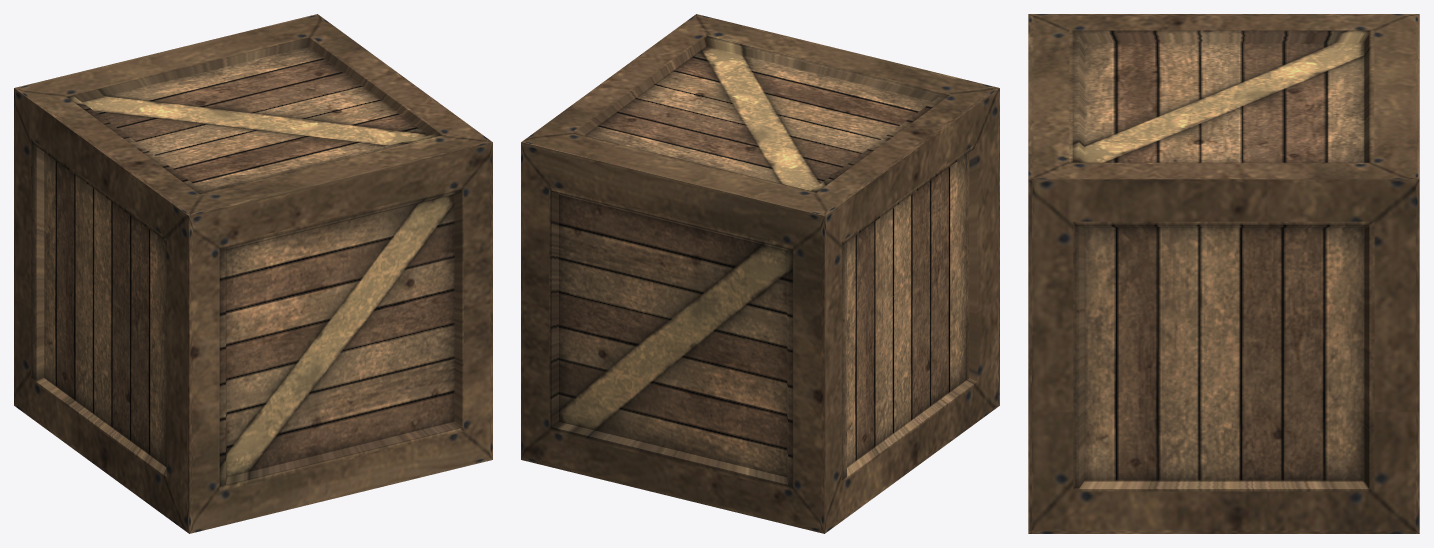
The picture shows the model from 3 angles, left to right: view 1: azimuth 30°, elevation 25°; view 2: azimuth 150°, elevation 25°; view 3: azimuth 270°, elevation 25°; orthographic projection. The views are drawn at different scales.
Visible parts, largest first — view 1: pCube1; view 2: pCube1; view 3: pCube1.
Part boxes in pixels (x1,y1,x2,y2): pCube1: (14,14,492,533); pCube1: (521,14,999,533); pCube1: (1028,14,1419,533).
Bounding box in the file's own units: 9.25 × 9.25 × 9.25.
Materials: 1 (1 with a texture image).
